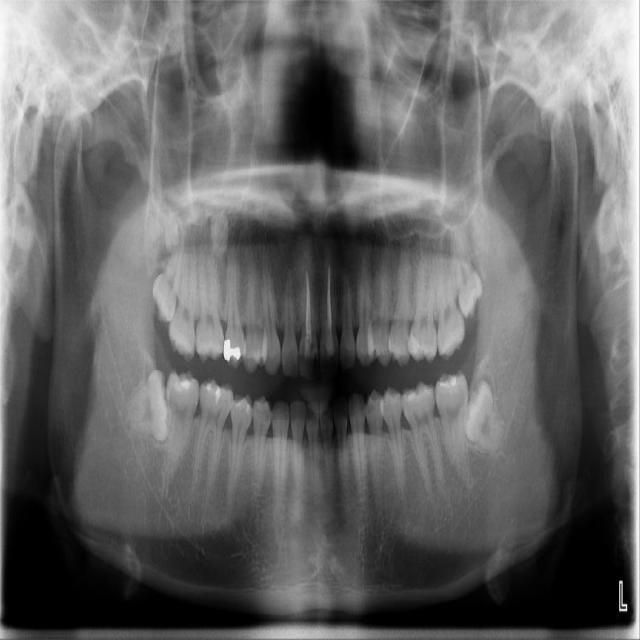3M ESPE Implant: (148, 237, 185, 324)
52: (430, 368, 475, 420), (162, 367, 204, 414), (194, 377, 237, 422), (406, 311, 441, 365), (223, 321, 247, 369), (229, 393, 256, 434), (299, 330, 320, 380), (320, 330, 339, 382), (363, 394, 375, 414)
73: (321, 258, 338, 337), (301, 267, 317, 338)
BioHorizons Implant: (433, 245, 466, 361)
BioLife Implant: (446, 215, 486, 320)
Biomet 3i Implant: (450, 378, 512, 460)
Blue Sky Bio Implant: (433, 369, 469, 480)
Caries: (167, 249, 198, 364)
Implant: (157, 368, 202, 483)
Keystone Dental Implant: (119, 367, 171, 442)
